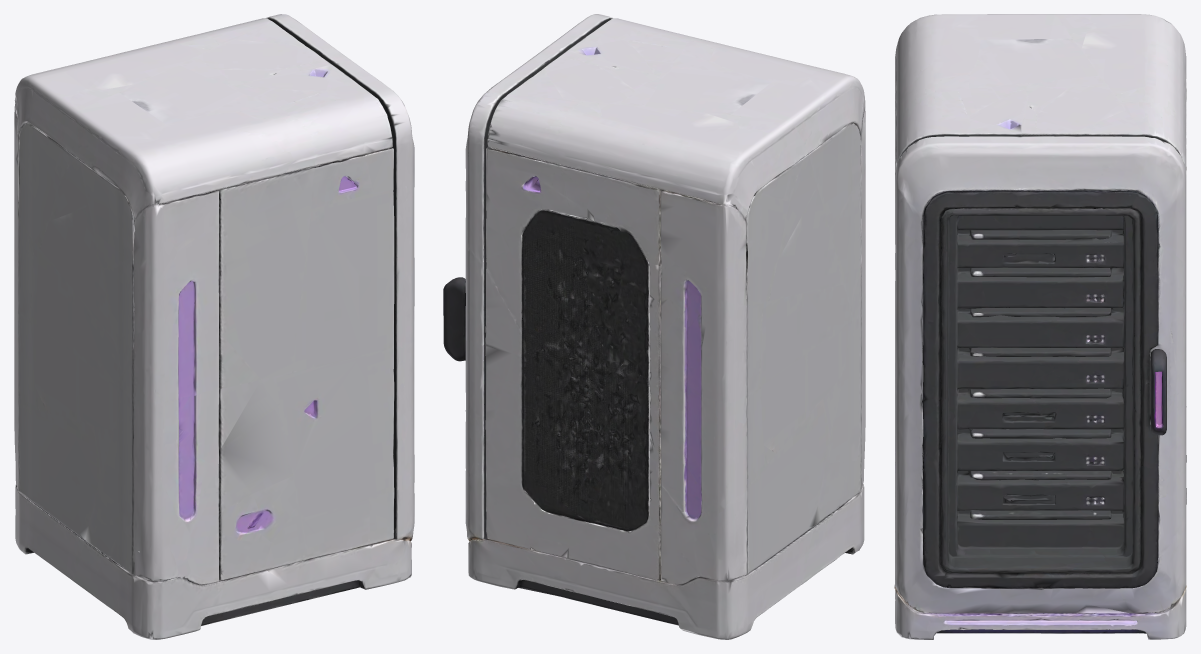
The model's file is data-vault.glb.
The picture shows the model from 3 angles, left to right: view 1: azimuth 30°, elevation 25°; view 2: azimuth 150°, elevation 25°; view 3: azimuth 270°, elevation 25°; orthographic projection. The views are drawn at different scales.
Parts seen in each view (by area): view 1: tripo_node_5627097a-295e-4caa-b761-47939e2aca15; view 2: tripo_node_5627097a-295e-4caa-b761-47939e2aca15; view 3: tripo_node_5627097a-295e-4caa-b761-47939e2aca15.
Part boxes in pixels (x1=…): tripo_node_5627097a-295e-4caa-b761-47939e2aca15: x1=14, y1=14, x2=414, y2=639; tripo_node_5627097a-295e-4caa-b761-47939e2aca15: x1=443, y1=14, x2=865, y2=639; tripo_node_5627097a-295e-4caa-b761-47939e2aca15: x1=894, y1=14, x2=1186, y2=639.
Size of the model in its own units: 0.6504 by 0.9781 by 0.5253.
1 material, 1 textured.
